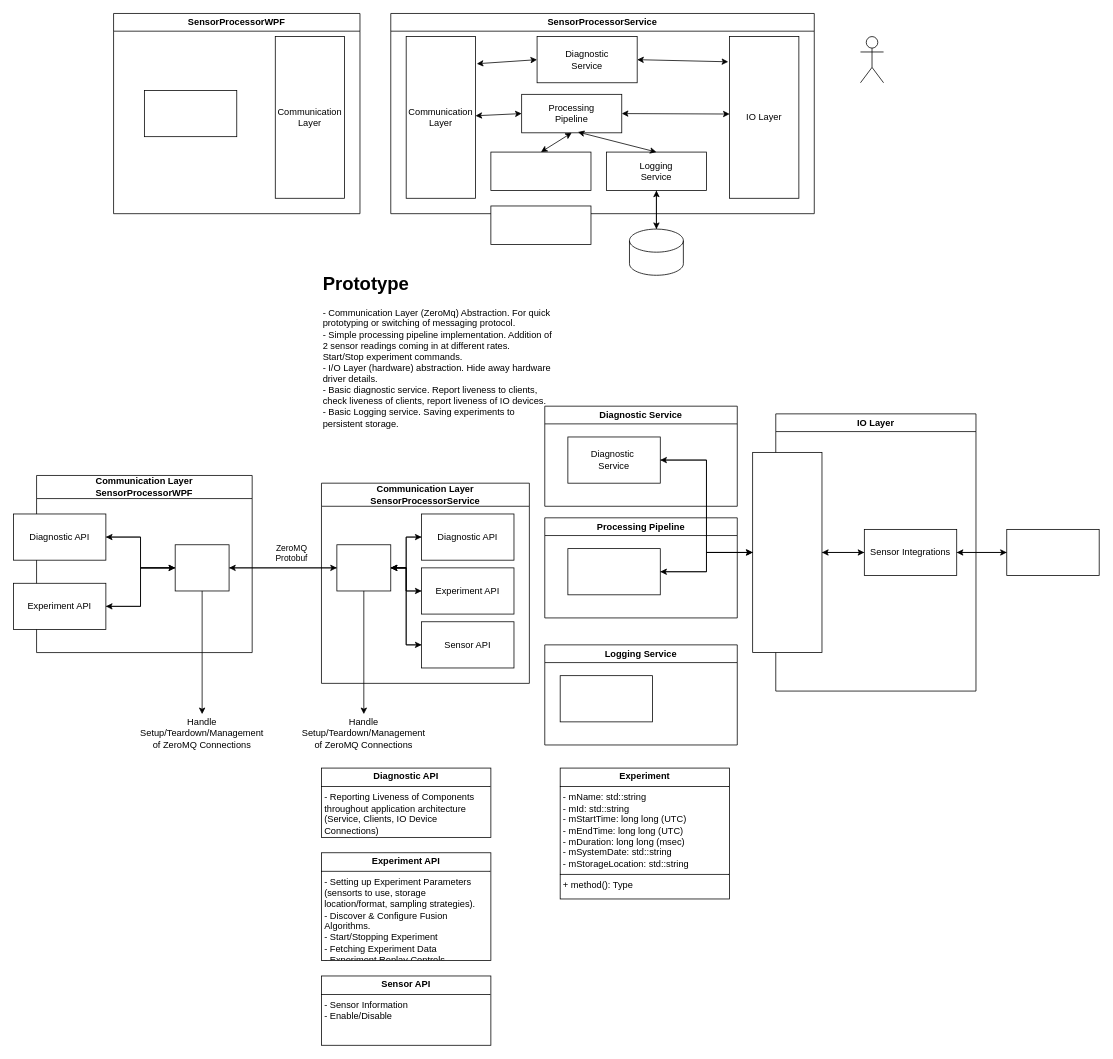
The diagram is 1113 pixels wide and 1059 high, and some of its shapes have lost their labels. The shapes that lost their labels are listed below. From the top down, each one's centre as x and y in pixels, then its label:
At (x=872, y=59): "Actor".
At (x=190, y=113): "Presentation Layer".
At (x=540, y=171): "Plugin Manager".
At (x=540, y=224): "Processing Plugins".
At (x=656, y=251): "Storage".
At (x=201, y=567): "Service Broker".
At (x=363, y=567): "Client Broker".
At (x=613, y=571): "Experiment Controller".
At (x=787, y=552): "IO Interface".
At (x=1052, y=552): "UTC Time Sensor".
At (x=606, y=698): "LoggingService".
